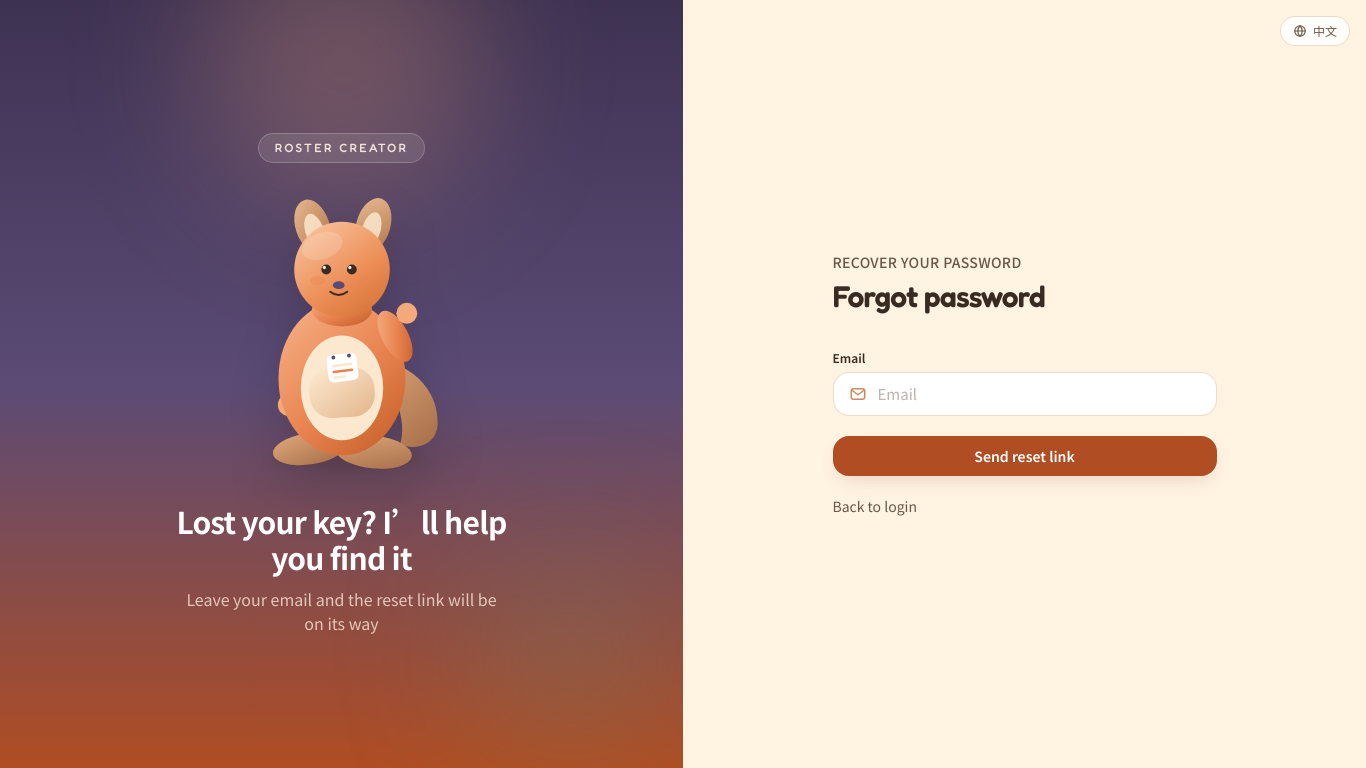
Test: ForgotPasswordPage › submits the email and shows a confirmation message
In the field with placeholder "Email": [1024, 394] box [832, 372, 1216, 416], type "a@b.com"
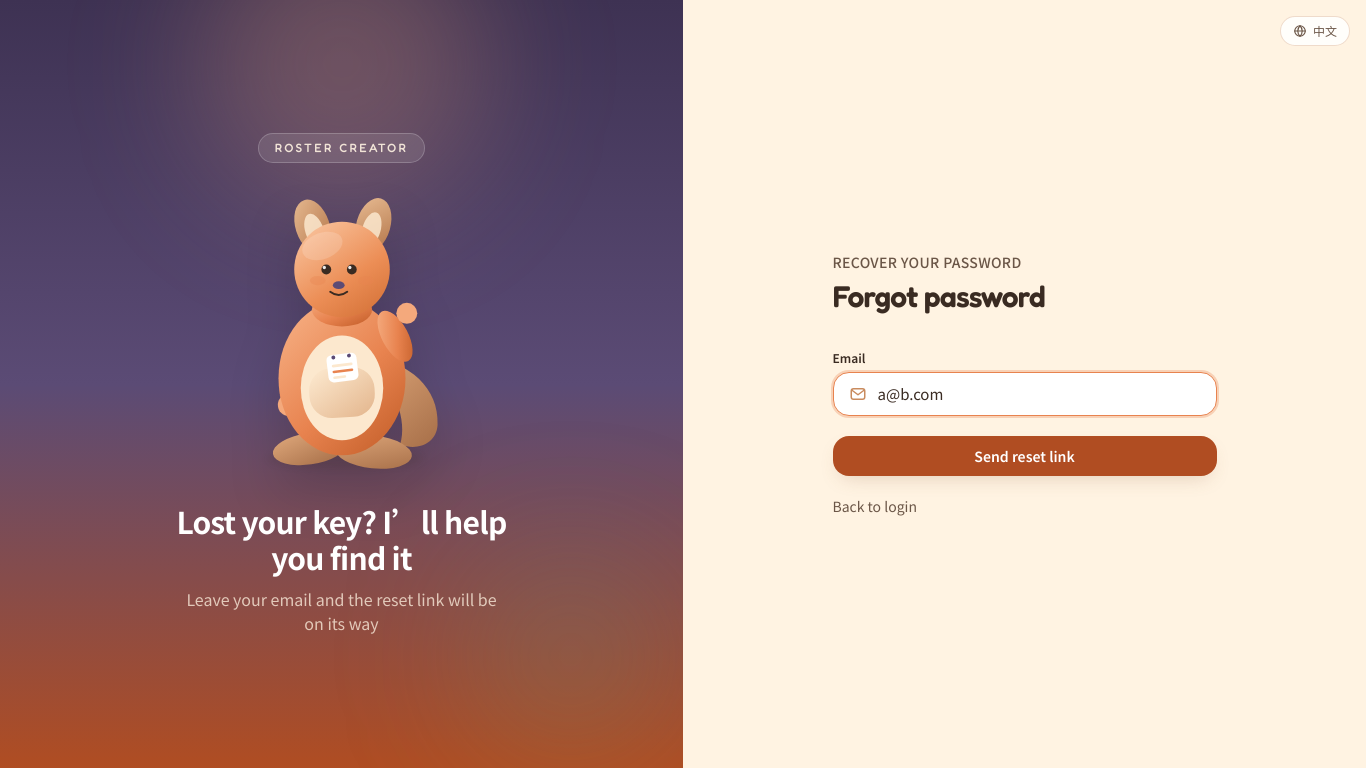
Click the button "Send reset link": [1024, 456] box [832, 436, 1216, 476]
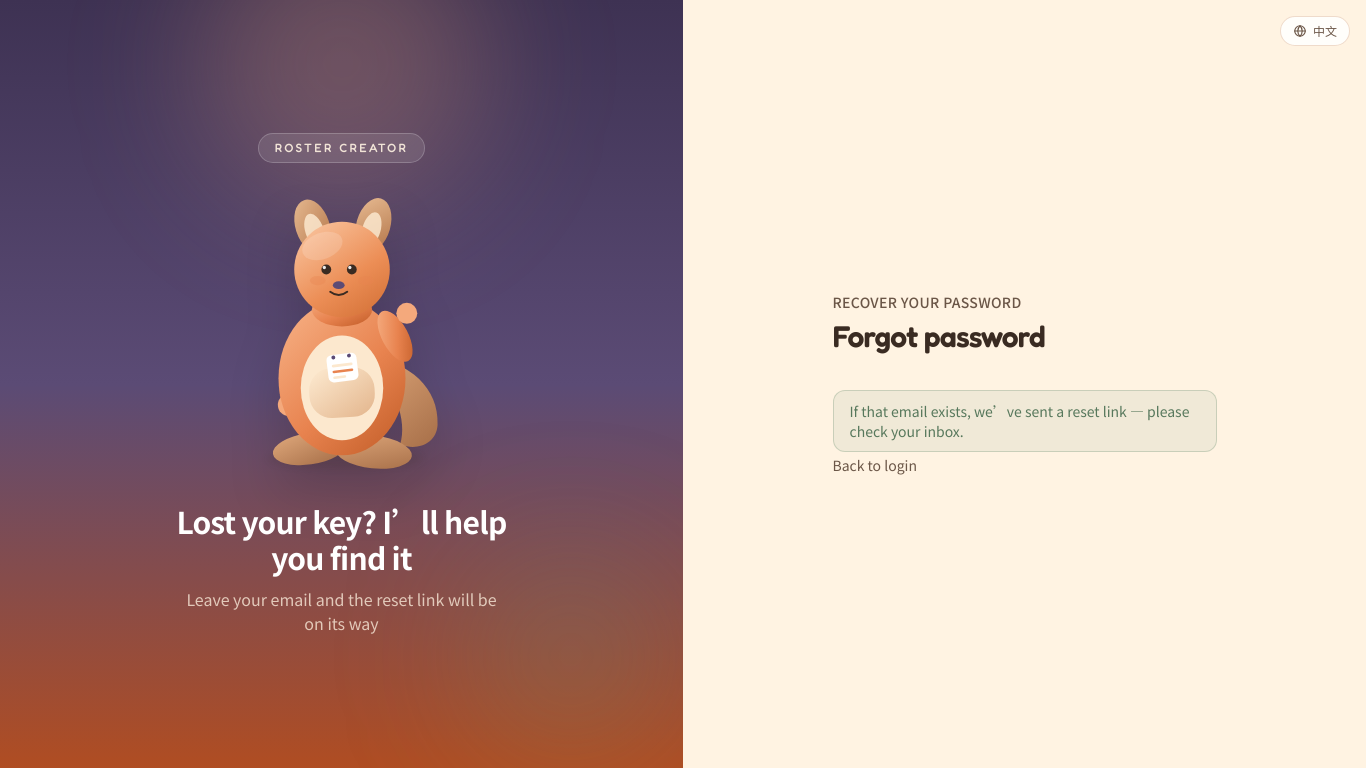
Check: the text "If that email exists" is shown, box [850, 401, 1189, 441]
